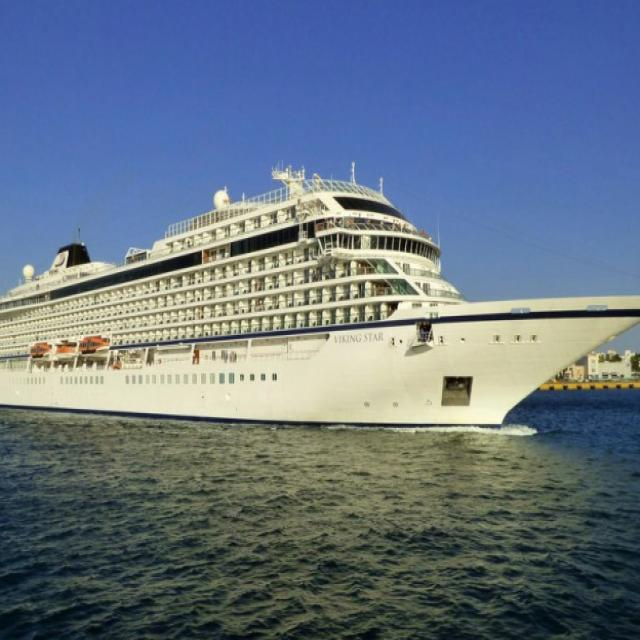cruises: (1, 157, 640, 447)
